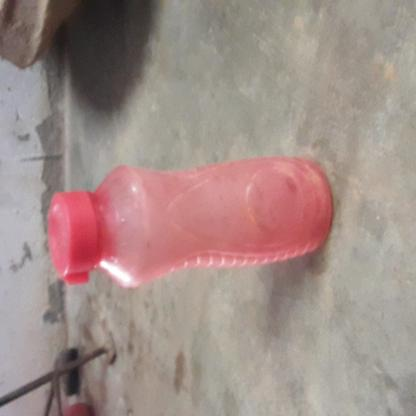bottle: (96, 60, 197, 416)
